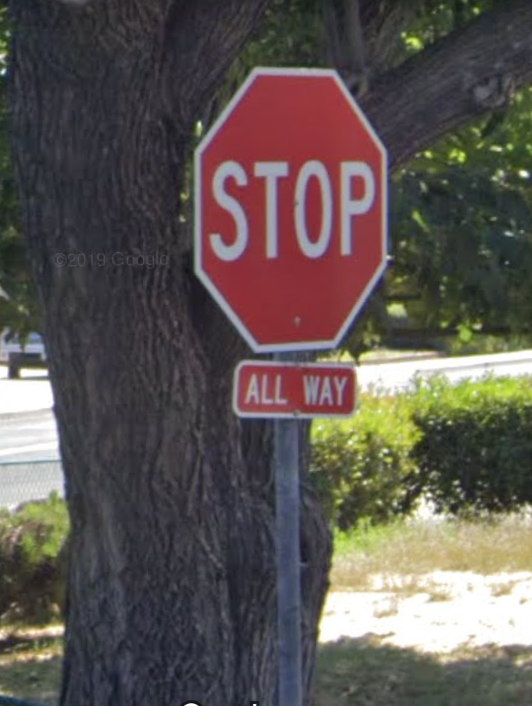stop_sign: (199, 66, 389, 349)
